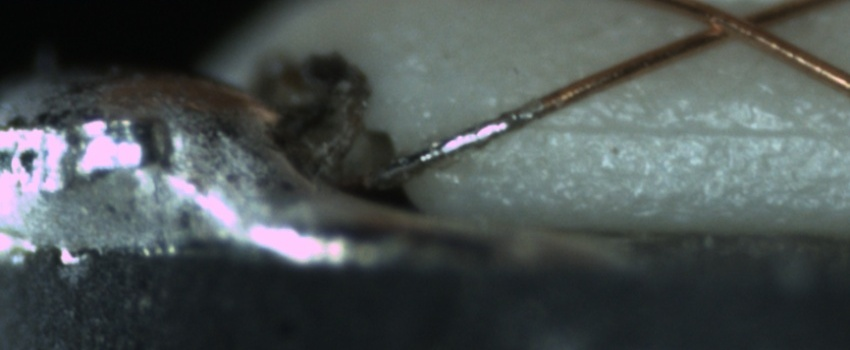CL: (679, 2, 792, 47)
DL: (496, 99, 850, 163)
TS: (347, 95, 541, 197)
